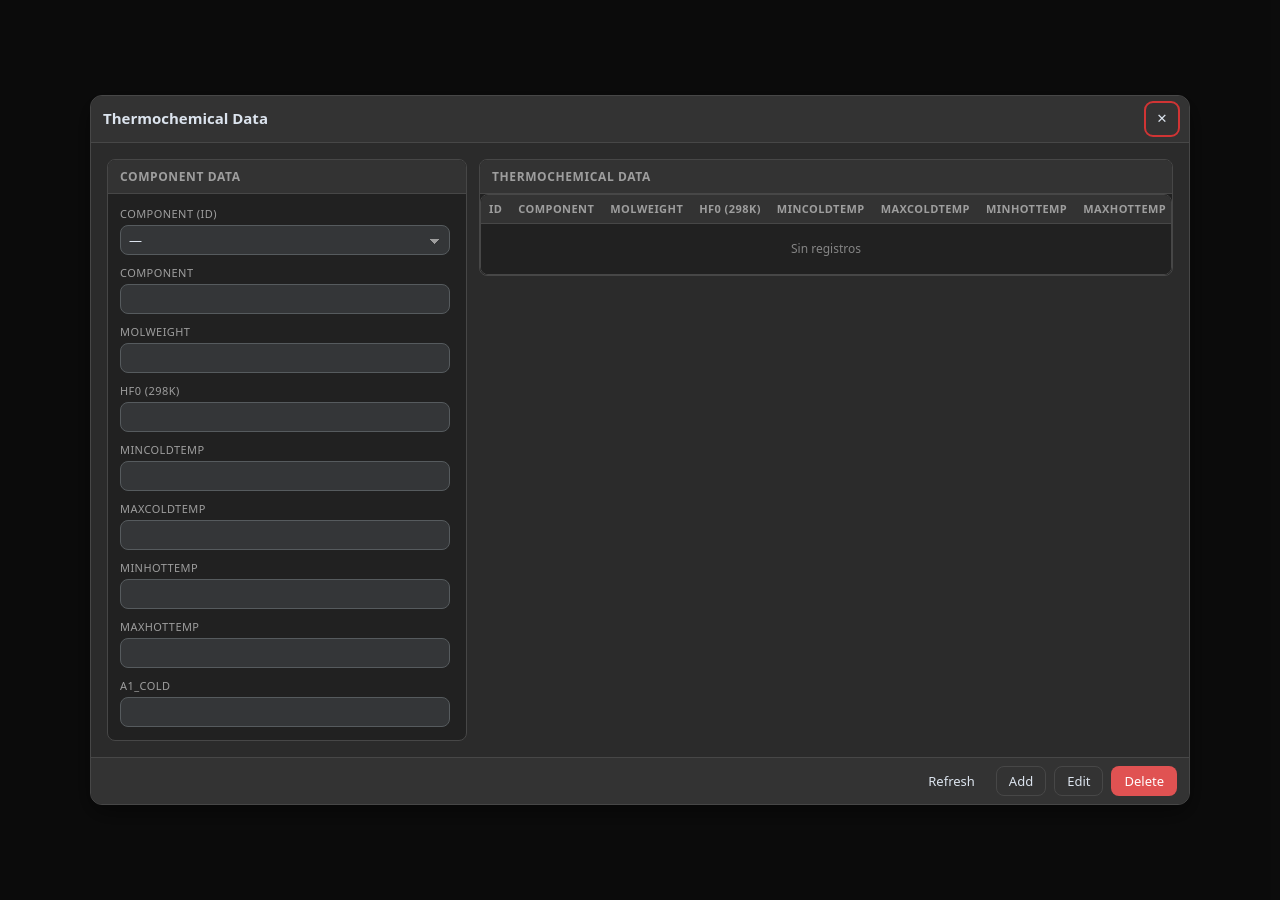
Test case: ventanas de base de datos (D/G) › sustituye comas por puntos mostrando el aviso del legacy (D-1)
In the field labelled "MolWeight": (285,358) 120,343 -> 450,373, type "342,5"
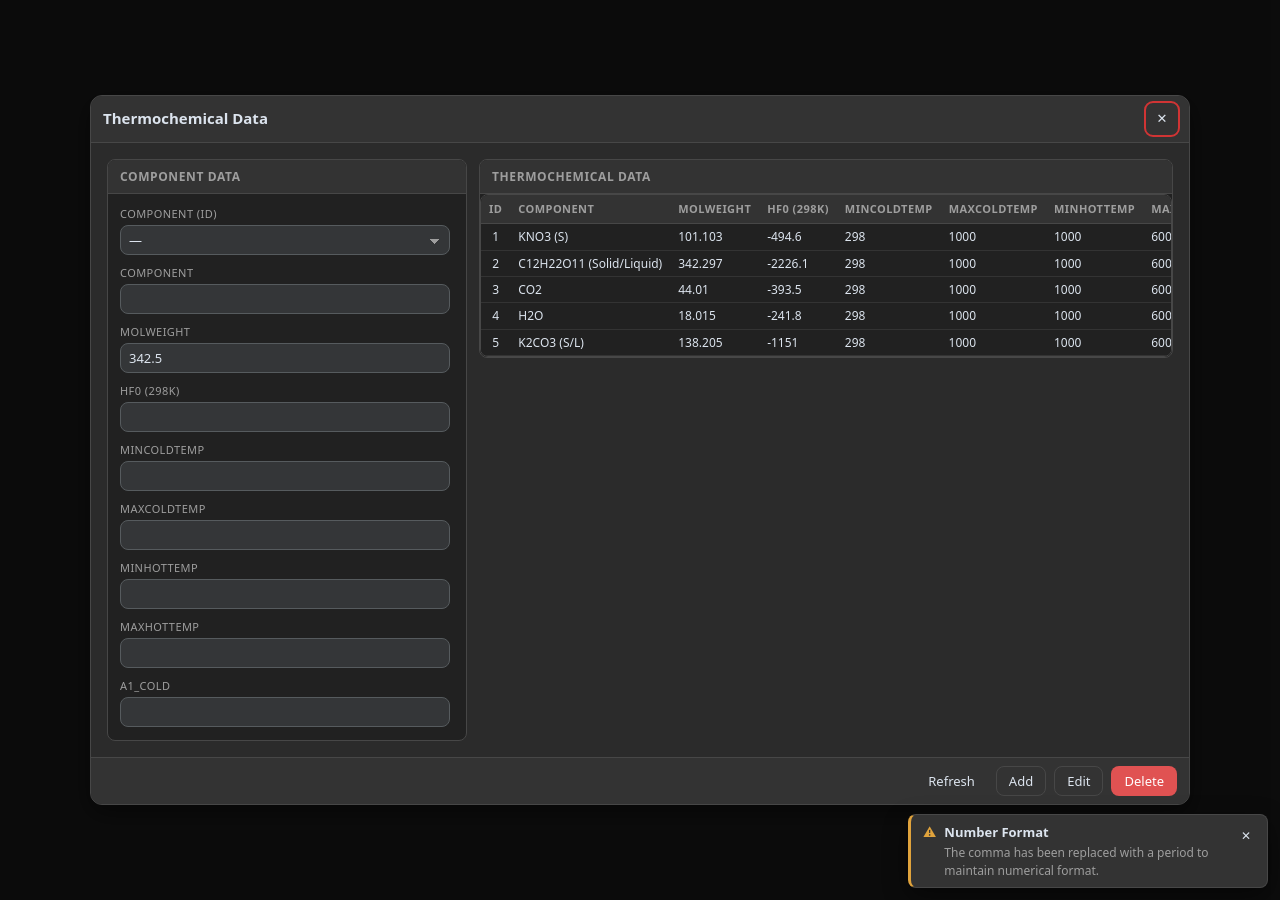
Expected: the field labelled "MolWeight" holds "342.5", 120,343 -> 450,373
Expected: the text "The comma has been replaced with a period to maintain numerical format." is shown, 944,844 -> 1229,879
